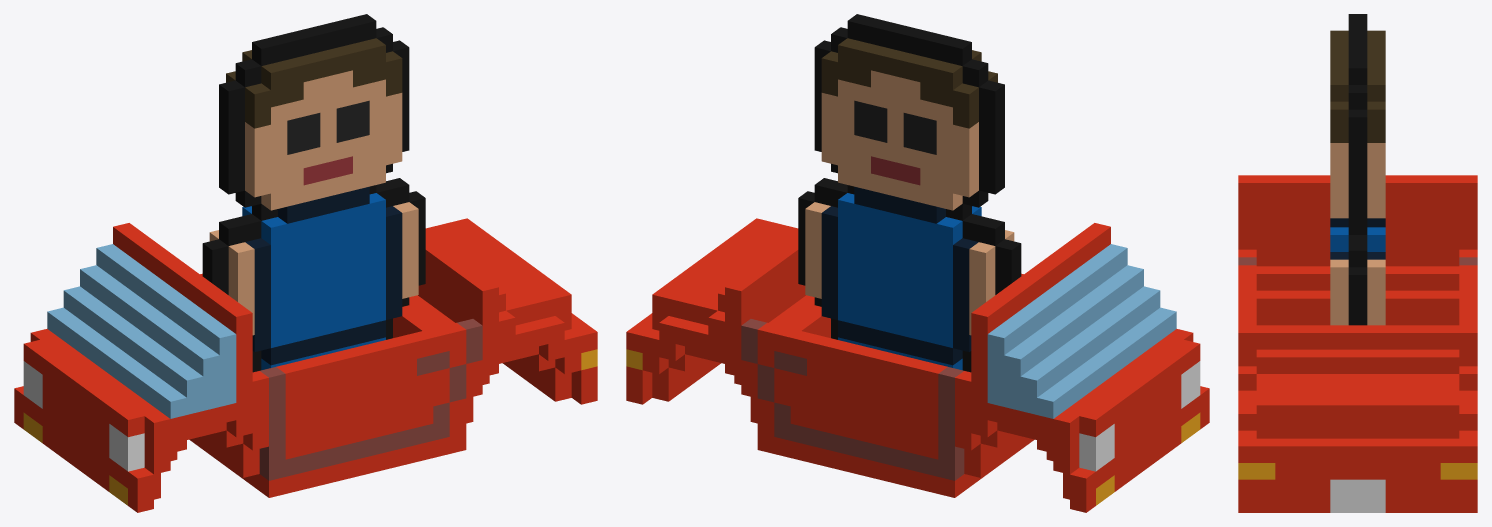
Rendered from 210413 man car only.obj.
The picture shows the model from 3 angles, left to right: view 1: azimuth 30°, elevation 25°; view 2: azimuth 150°, elevation 25°; view 3: azimuth 270°, elevation 25°; orthographic projection. The views are drawn at different scales.
Size of the model in its own units: 2.8 by 2.3 by 1.3.
1 material, 1 textured.
